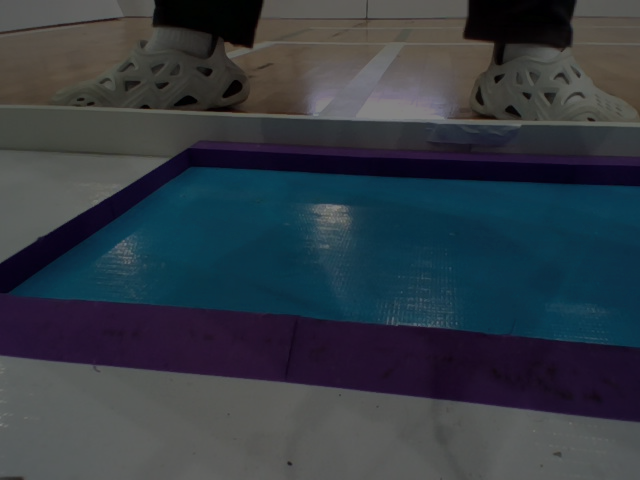kuang: (2, 124, 640, 418)
